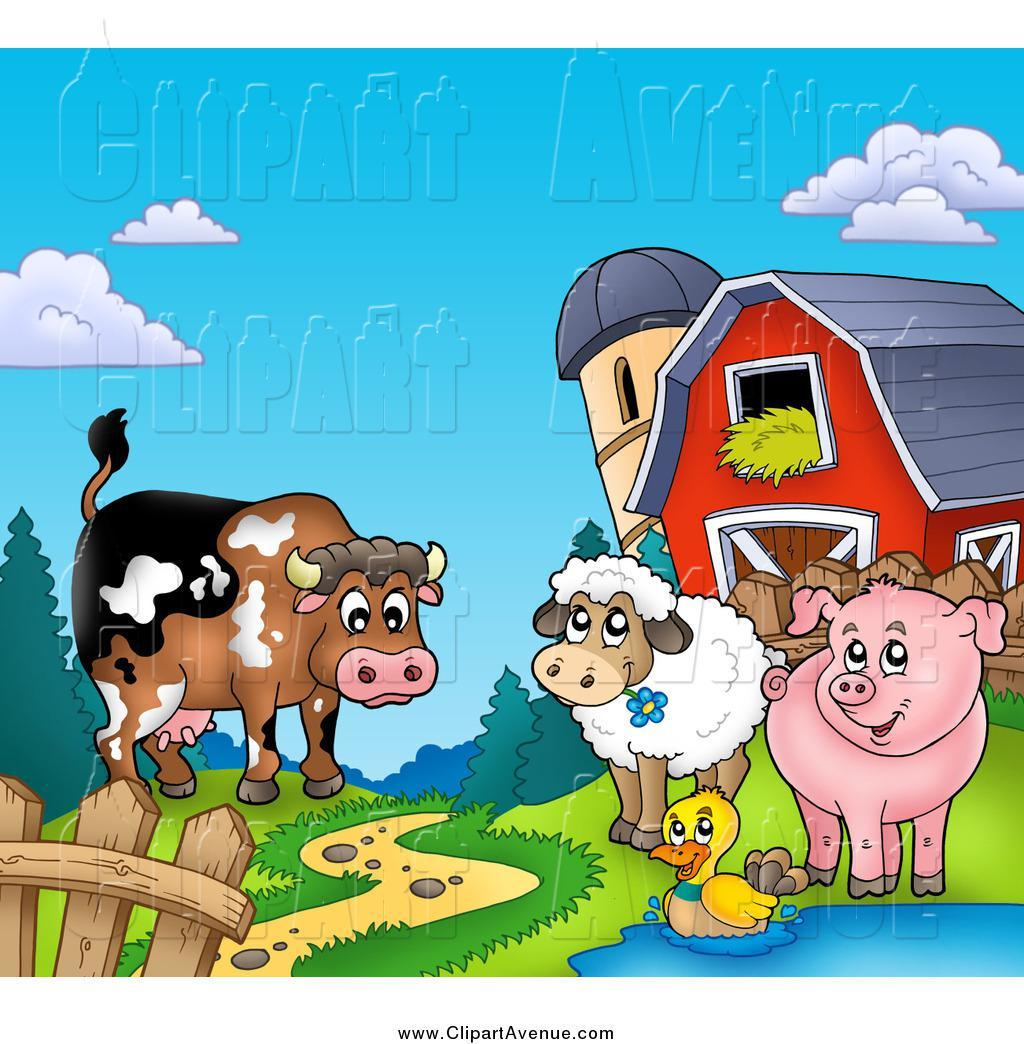bird: (659, 787, 811, 951)
cow: (54, 411, 453, 817)
sheep: (529, 545, 766, 847)
